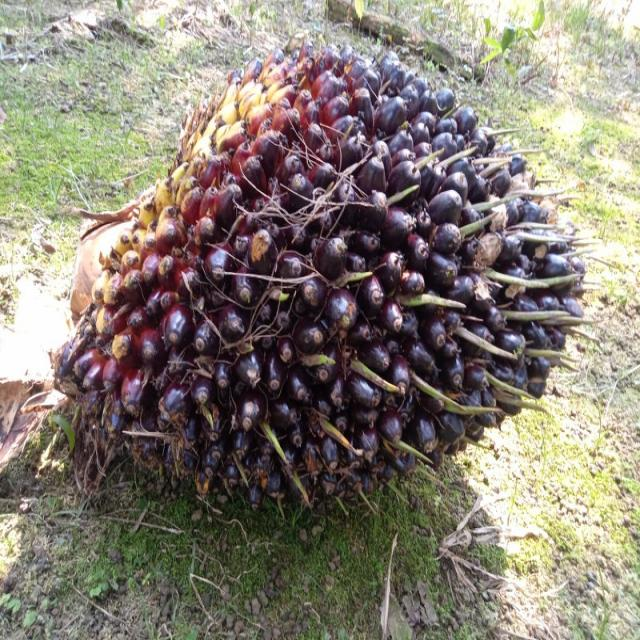fraksi 00: (77, 51, 578, 507)
